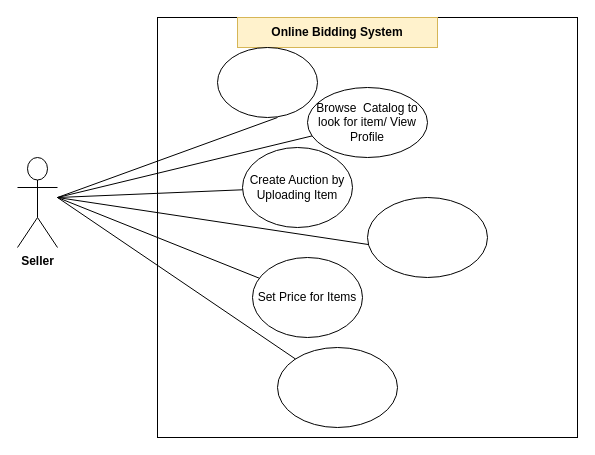
Some shapes in this 595 by 455 pixel diagram are drawn without their labels. The shapes that lost their labels are listed below. From the top down, each one's centre as x and y in pixels, then its label:
At [267,82]: "Register/Login".
At [427,237]: "Check Bid Status".
At [337,387]: "Sell Item".
